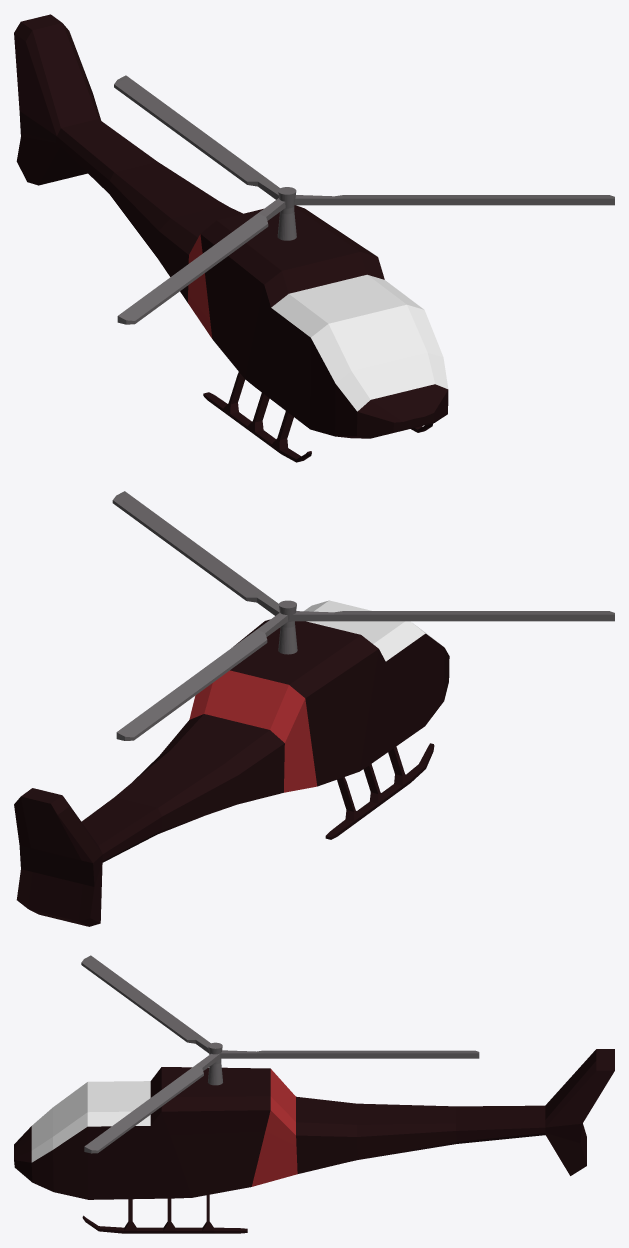
File: helicopter.glb
3 views of the same model, one above another, from view 1: azimuth 30°, elevation 25°; view 2: azimuth 150°, elevation 25°; view 3: azimuth 270°, elevation 25° (orthographic). The views are drawn at different scales.
Visible parts, largest first — view 1: Cube; view 2: Cube; view 3: Cube.
Boxes of the visible parts, x1,y1,x2,y2 form: Cube: (14, 14, 614, 462); Cube: (14, 491, 614, 926); Cube: (14, 955, 614, 1233).
Size of the model in its own units: 3.52 by 1.38 by 4.63.
